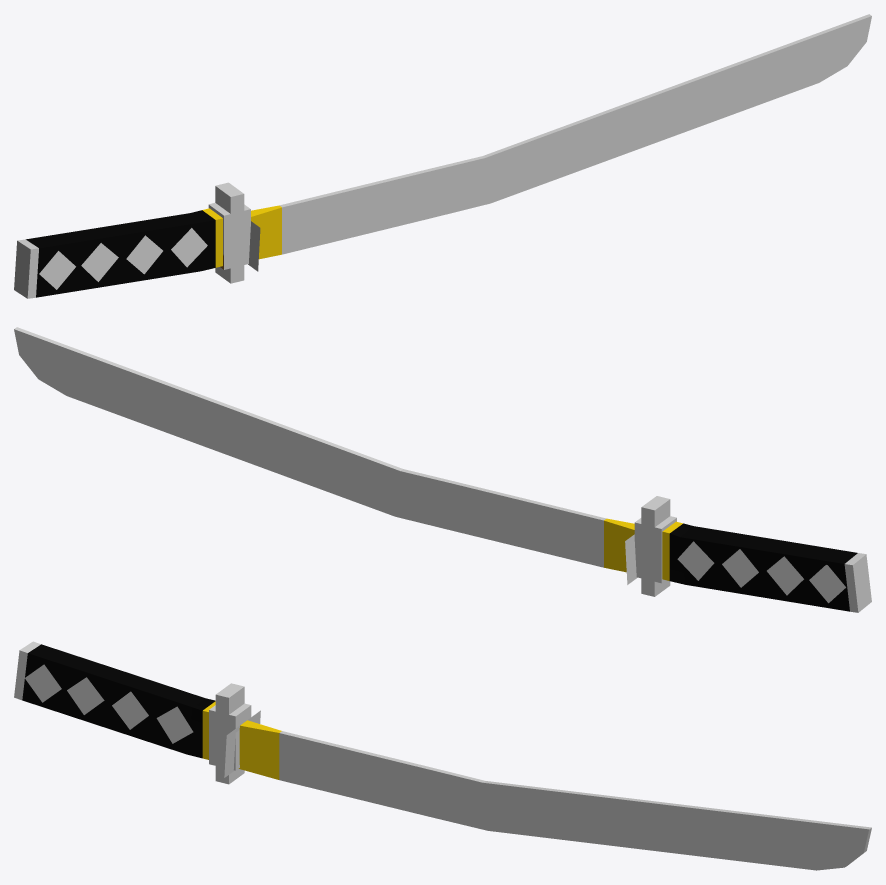
Rendered from Katana.fbx.
3 views of the same model, one above another, from view 1: azimuth 30°, elevation 25°; view 2: azimuth 150°, elevation 25°; view 3: azimuth 330°, elevation 25° (orthographic).
Visible parts, largest first — view 1: Cube; view 2: Cube; view 3: Cube.
Part boxes in pixels (x1=…): Cube: x1=14, y1=14, x2=871, y2=298; Cube: x1=14, y1=327, x2=871, y2=612; Cube: x1=14, y1=641, x2=871, y2=870.
Bounding box in the file's own units: 426 × 50.45 × 29.73.
